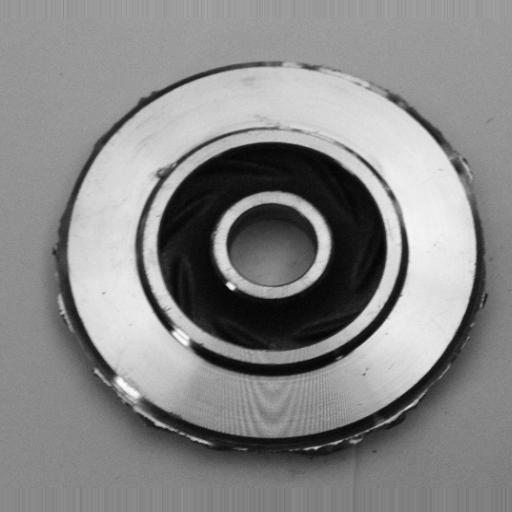casting_with_burr: (52, 55, 493, 460)
crack: (144, 155, 182, 190)
scratch: (155, 300, 211, 372), (249, 105, 345, 141)
